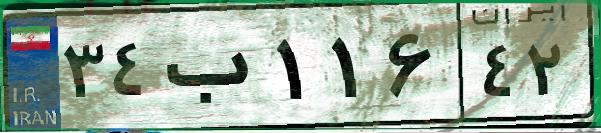1: (270, 28, 330, 110), (330, 28, 385, 110)
2: (525, 38, 570, 115)
3: (57, 26, 110, 100)
4: (475, 38, 525, 113), (110, 28, 158, 98)
6: (385, 28, 445, 110)
ب: (158, 20, 270, 120)
